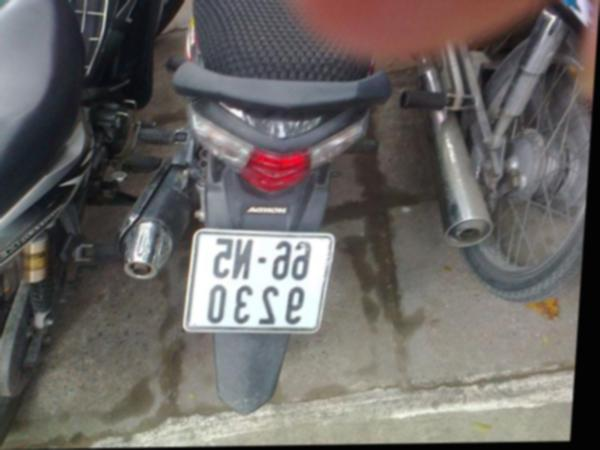License_Plate: (179, 230, 330, 337)
